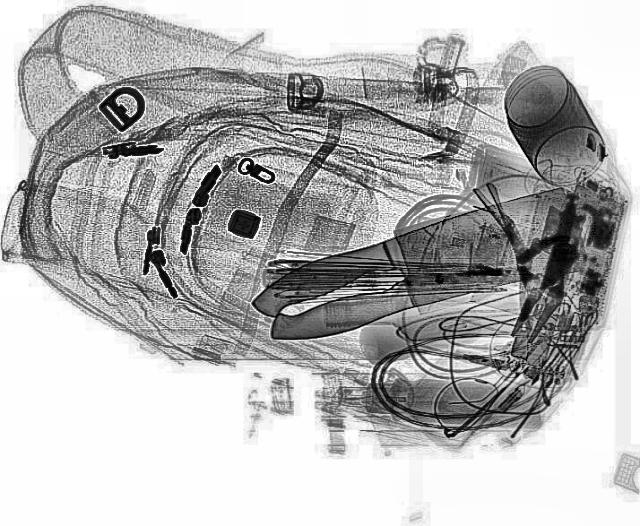Knife: (239, 186, 599, 356), (240, 185, 602, 348)
